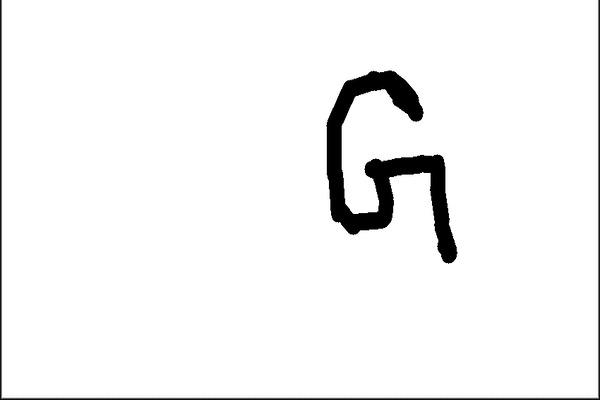G: (319, 66, 462, 269)
